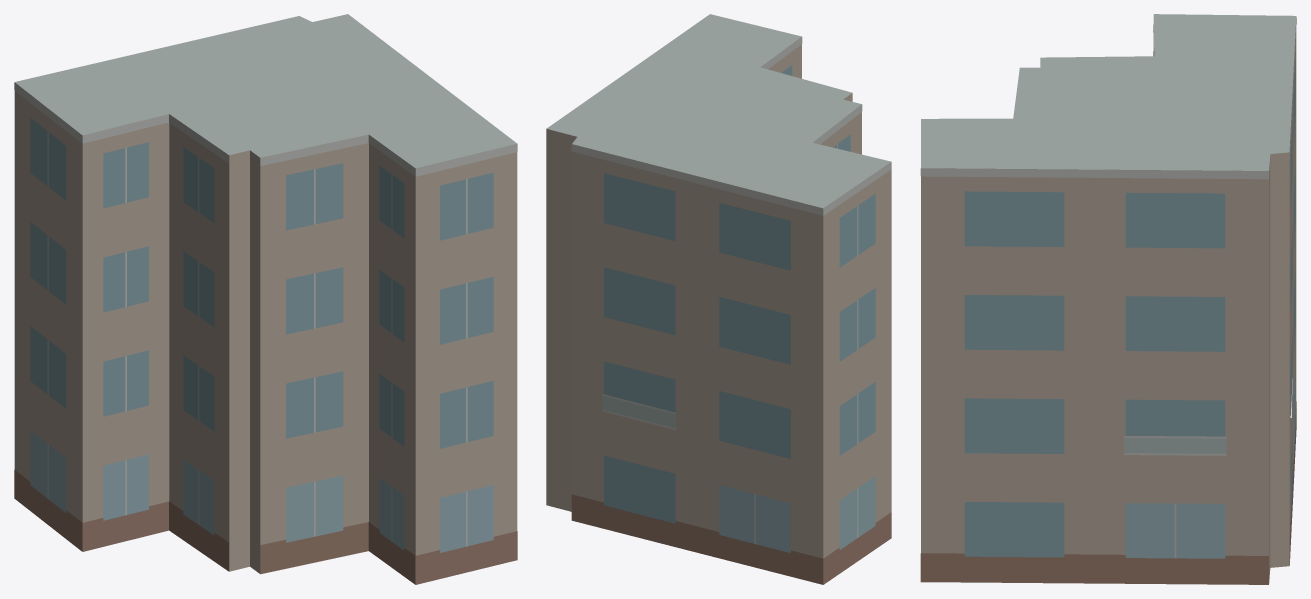
Rendered from survey-upis-32777528.glb.
3 renders of one model, left to right at view 1: azimuth 30°, elevation 25°; view 2: azimuth 150°, elevation 25°; view 3: azimuth 270°, elevation 25°, orthographic. The views are drawn at different scales.
Visible parts, largest first — view 1: survey-upis-32777528.tmp; view 2: survey-upis-32777528.tmp; view 3: survey-upis-32777528.tmp.
Part boxes in pixels (x1,y1,x2,y2): survey-upis-32777528.tmp: [14, 14, 517, 584]; survey-upis-32777528.tmp: [546, 14, 891, 584]; survey-upis-32777528.tmp: [920, 14, 1296, 584].
Size of the model in its own units: 9.95 by 12.2 by 10.05.
